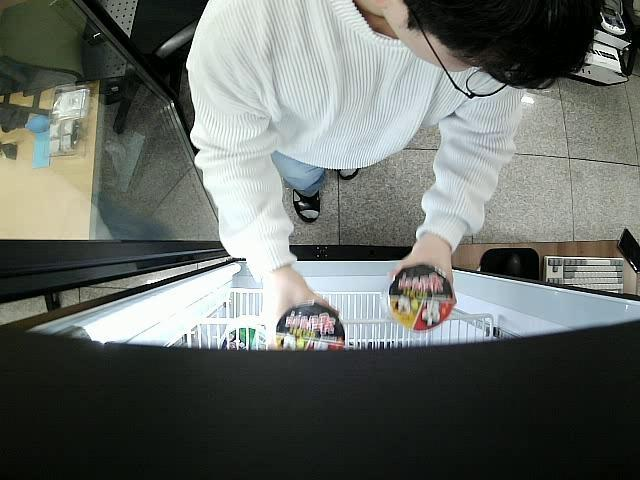08_buldak_S: (389, 264, 455, 332), (274, 305, 345, 351)
